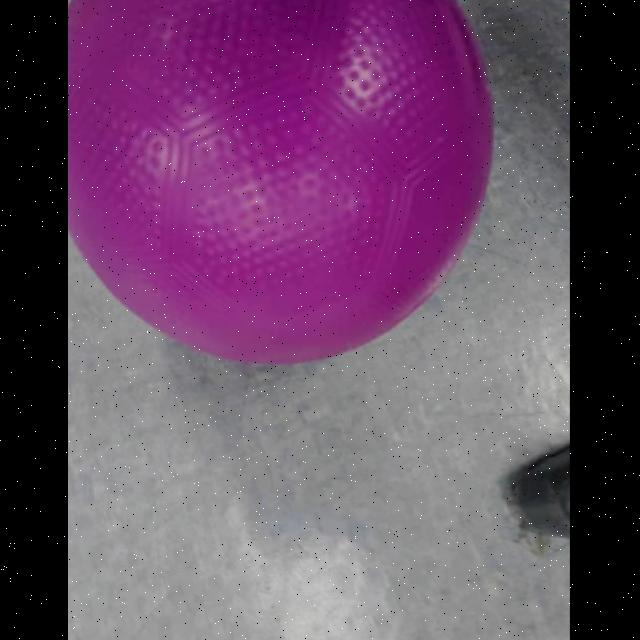P: (68, 0, 496, 368)
